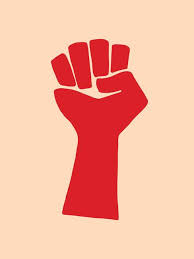fist: (49, 42, 142, 131)
